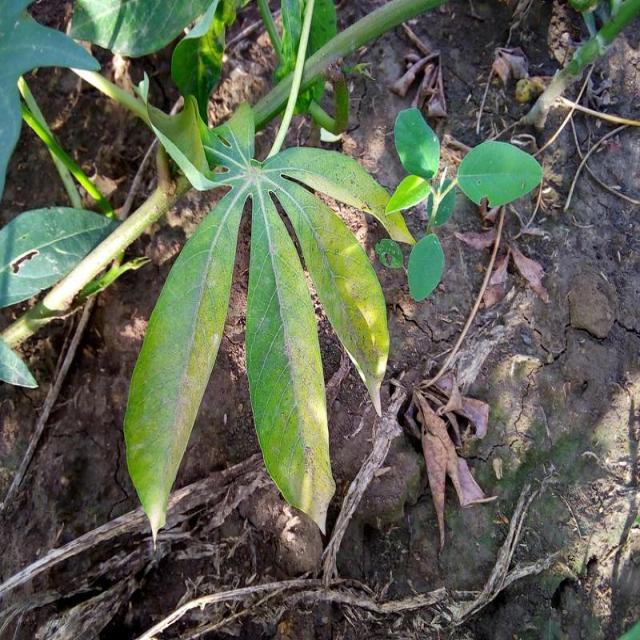cassava leaf: (122, 99, 413, 544), (456, 138, 543, 209), (393, 106, 440, 179), (406, 231, 444, 302)
